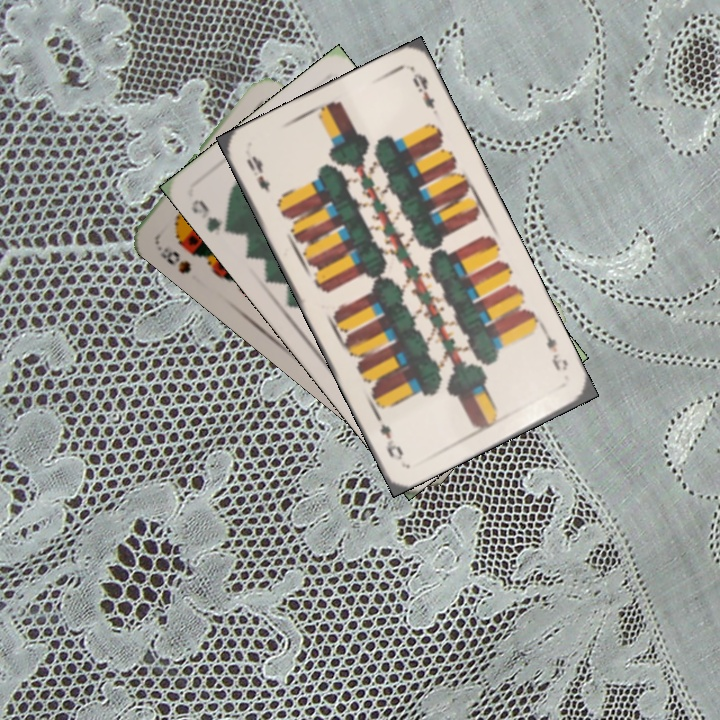E9: (539, 326, 571, 374), (242, 152, 273, 195)
G9: (187, 195, 237, 238)
S8: (152, 237, 194, 277)
